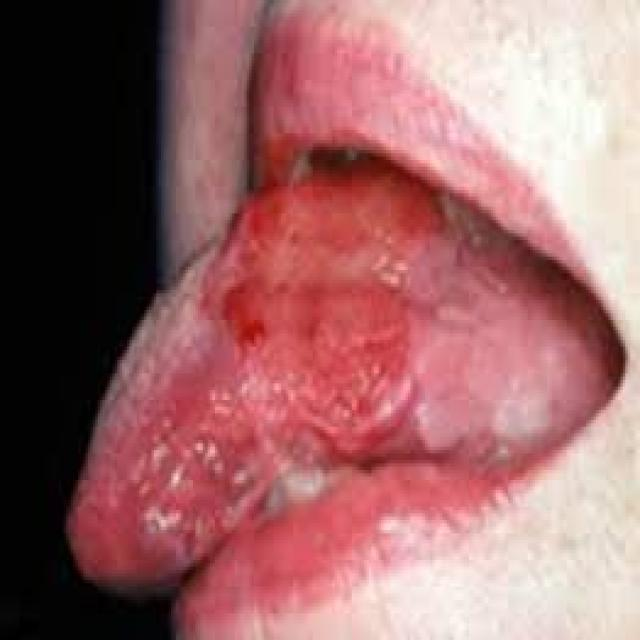right_region: (157, 173, 483, 554)
